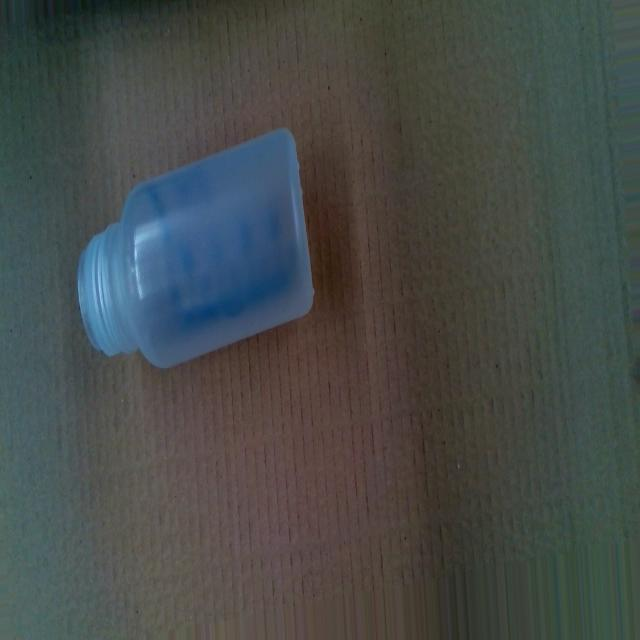bottle: (71, 124, 318, 383)
